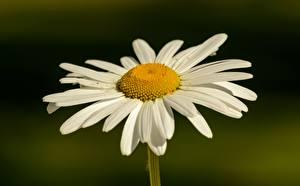chamomile: (94, 37, 209, 137)
